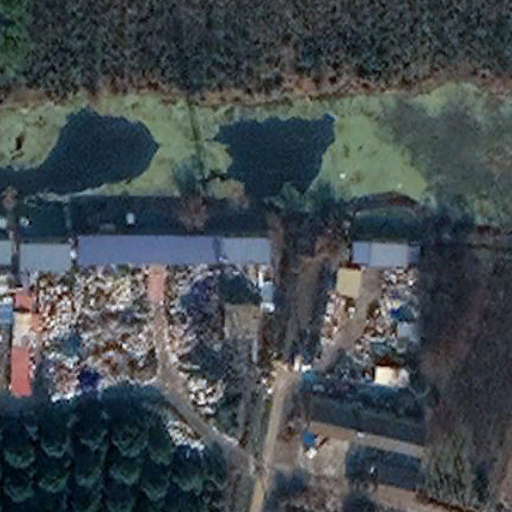msw: (30, 264, 154, 398), (334, 260, 421, 395), (168, 266, 226, 412)
